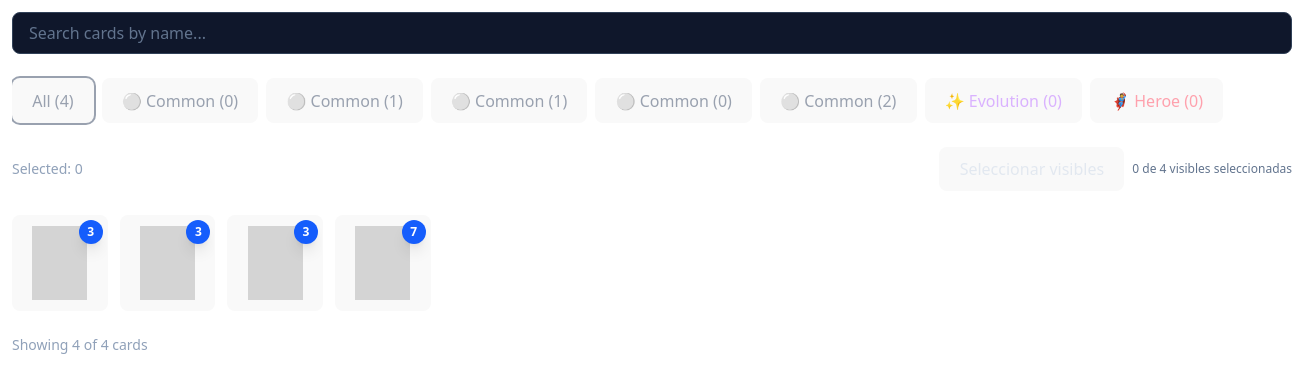
CardGrid Component › Empty States › should show message when no cards match search
This screenshot has width=1304, height=371.
Type "impossible card name" into the field with placeholder "Search cards by name..." at (652, 33), box [12,12,1292,54]
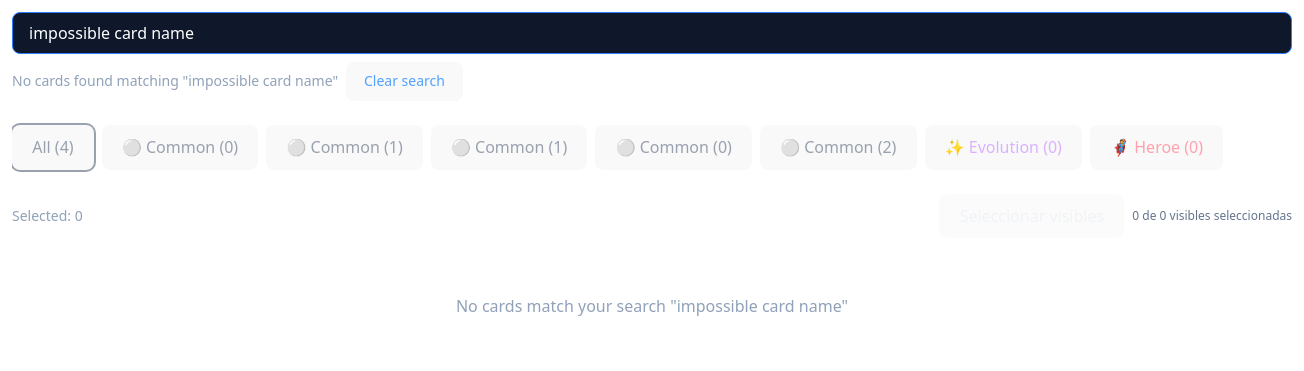
Expected: the text "No cards match your search \"impossible card name\"" is shown, [456,295,848,317]
